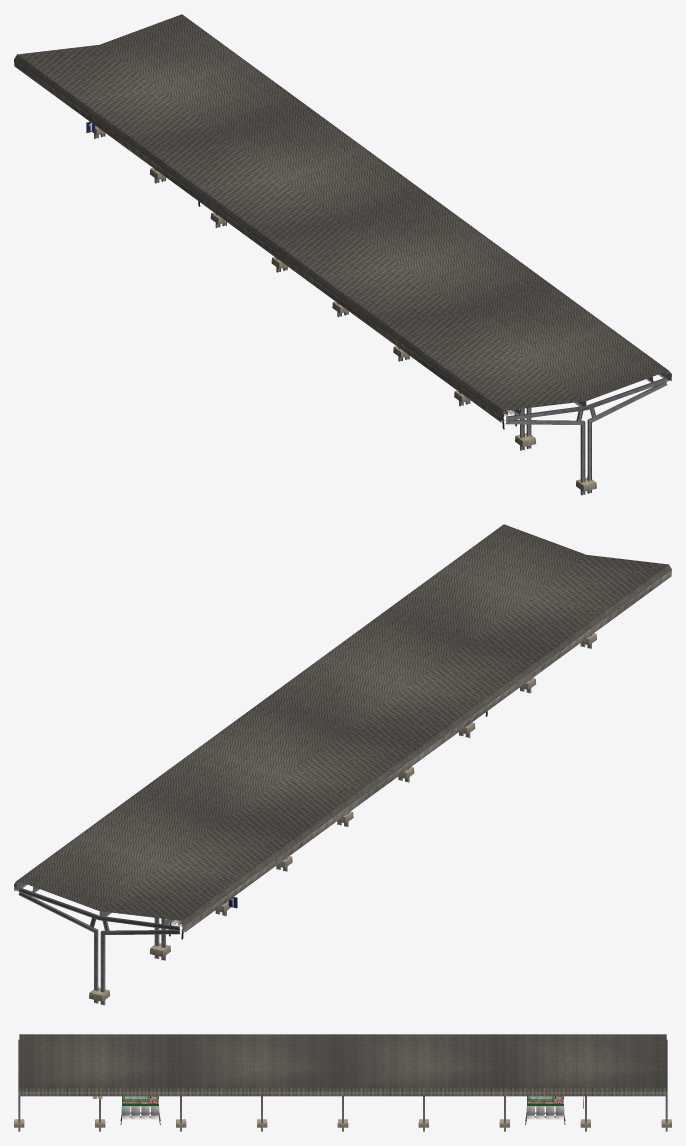
Rendered from AMB_MEI_CENTER_YANE_GIFU.glb.
3 renders of one model, top to bottom at view 1: azimuth 30°, elevation 25°; view 2: azimuth 150°, elevation 25°; view 3: azimuth 270°, elevation 25°, orthographic. The views are drawn at different scales.
Parts seen in each view (by area): view 1: BASE, J08; view 2: BASE, J00; view 3: BASE, J01, J06, J08, J00, J07.
Boxes of the visible parts, box(x1,y1,x2,y2) form: BASE: box(14, 14, 671, 422); J08: box(505, 377, 667, 495); BASE: box(14, 524, 671, 932); J00: box(18, 887, 180, 1005); BASE: box(19, 1034, 666, 1096); J01: box(525, 1096, 590, 1131); J06: box(120, 1096, 186, 1131); J08: box(14, 1039, 24, 1131); J00: box(661, 1039, 671, 1131); J07: box(92, 1096, 105, 1131).
Size of the model in its own units: 20.29 by 11.7 by 102.
55 materials, 47 textured.
